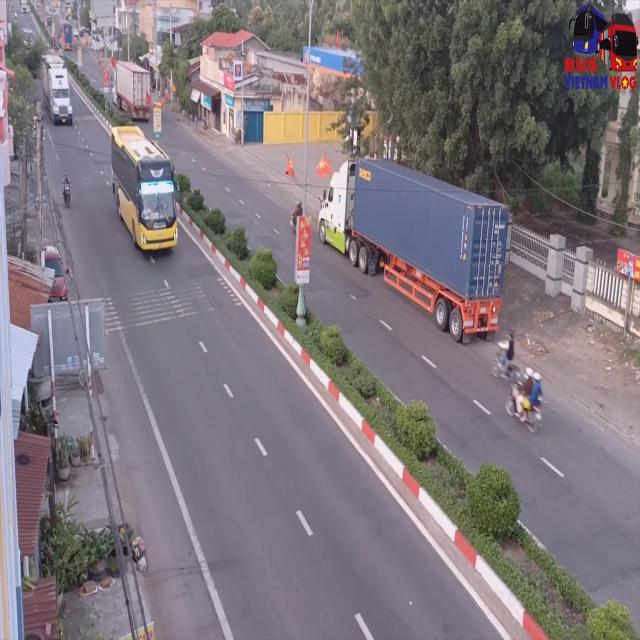bus: (112, 130, 179, 256)
motorbike: (507, 369, 545, 434), (62, 172, 71, 208)
truck: (320, 167, 508, 351), (41, 49, 72, 129)
